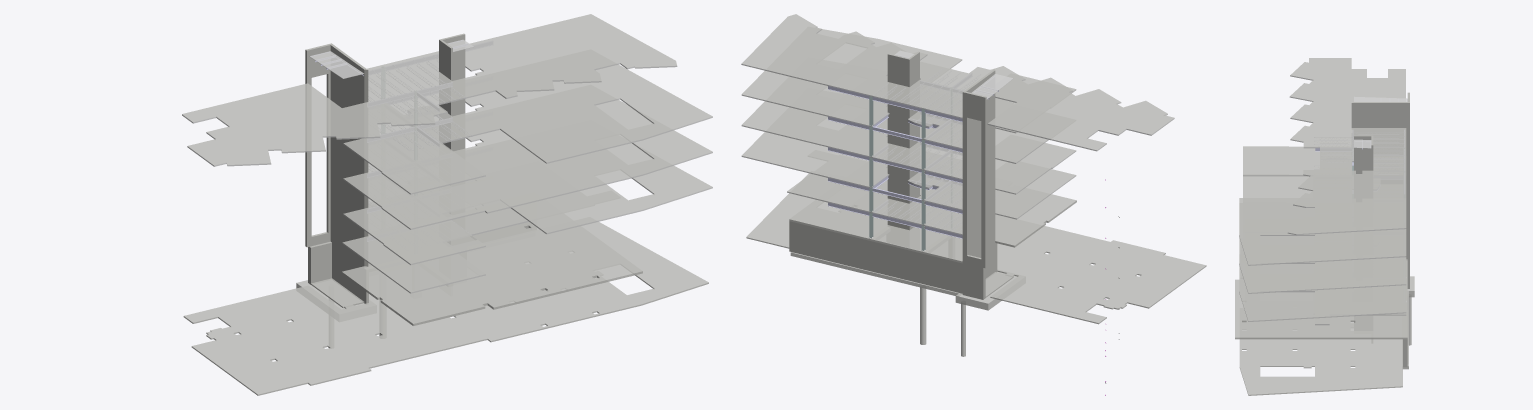
Rendered from ISSUE-001-context.glb.
3 renders of one model, left to right at view 1: azimuth 30°, elevation 25°; view 2: azimuth 150°, elevation 25°; view 3: azimuth 270°, elevation 25°, orthographic. The views are drawn at different scales.
Visible parts, largest first — view 1: 4738, 4460 (×2), 5402 (×2), 5379 (×2), 3844, 4036 (×2), 3052, 4006, 3053, 3061, 3043, 3208 (+3 smaller); view 2: 4460 (×2), 4738, 5379 (×2), 4036 (×2), 5402 (×2), 3844, 4006 (×2), 3928, 3052, 3053, 3043, 3929 (+7 smaller); view 3: 4460 (×2), 5402 (×2), 4738, 5379 (×2), 4036 (×2), 3844, 3052, 3046, 3053.
Part boxes in pixels (<box>): 4738: <box>183,222,708,395</box>; 4460 (×2): <box>182,14,677,166</box>; 5402 (×2): <box>343,64,712,194</box>; 5379 (×2): <box>343,100,712,229</box>; 3844: <box>342,222,642,325</box>; 4036 (×2): <box>343,143,712,265</box>; 3052: <box>330,44,368,266</box>; 4006: <box>342,208,527,292</box>; 3053: <box>305,43,332,247</box>; 3061: <box>332,243,368,303</box>; 3043: <box>439,33,465,151</box>; 3208: <box>308,241,331,284</box>; 4460 (×2): <box>741,14,1174,151</box>; 4738: <box>746,173,1206,324</box>; 5379 (×2): <box>741,101,1048,179</box>; 4036 (×2): <box>741,132,1076,210</box>; 5402 (×2): <box>741,29,1076,149</box>; 3844: <box>789,194,1076,263</box>; 4006 (×2): <box>787,169,1076,235</box>; 3928: <box>789,221,962,293</box>; 3052: <box>964,69,995,256</box>; 3053: <box>962,91,986,268</box>; 3043: <box>887,53,910,230</box>; 3929: <box>790,252,959,295</box>; 4460 (×2): <box>1287,58,1406,235</box>; 5402 (×2): <box>1239,146,1406,265</box>; 4738: <box>1239,322,1402,395</box>; 5379 (×2): <box>1239,176,1406,293</box>; 4036 (×2): <box>1239,264,1406,321</box>; 3844: <box>1235,259,1407,339</box>; 3052: <box>1351,102,1407,259</box>; 3046: <box>1354,135,1371,173</box>; 3053: <box>1407,92,1409,259</box>.
Bounding box in the file's own units: 63.76 × 35.08 × 37.24.
